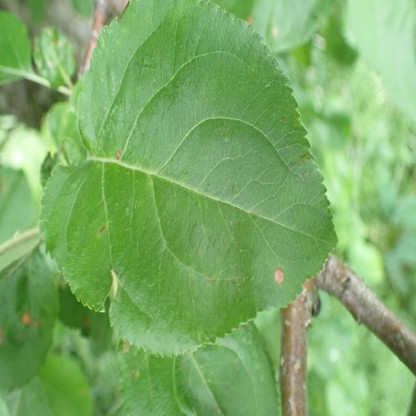frogeye_leaf_spot: (275, 268, 283, 283), (20, 313, 29, 325), (116, 149, 121, 159)
